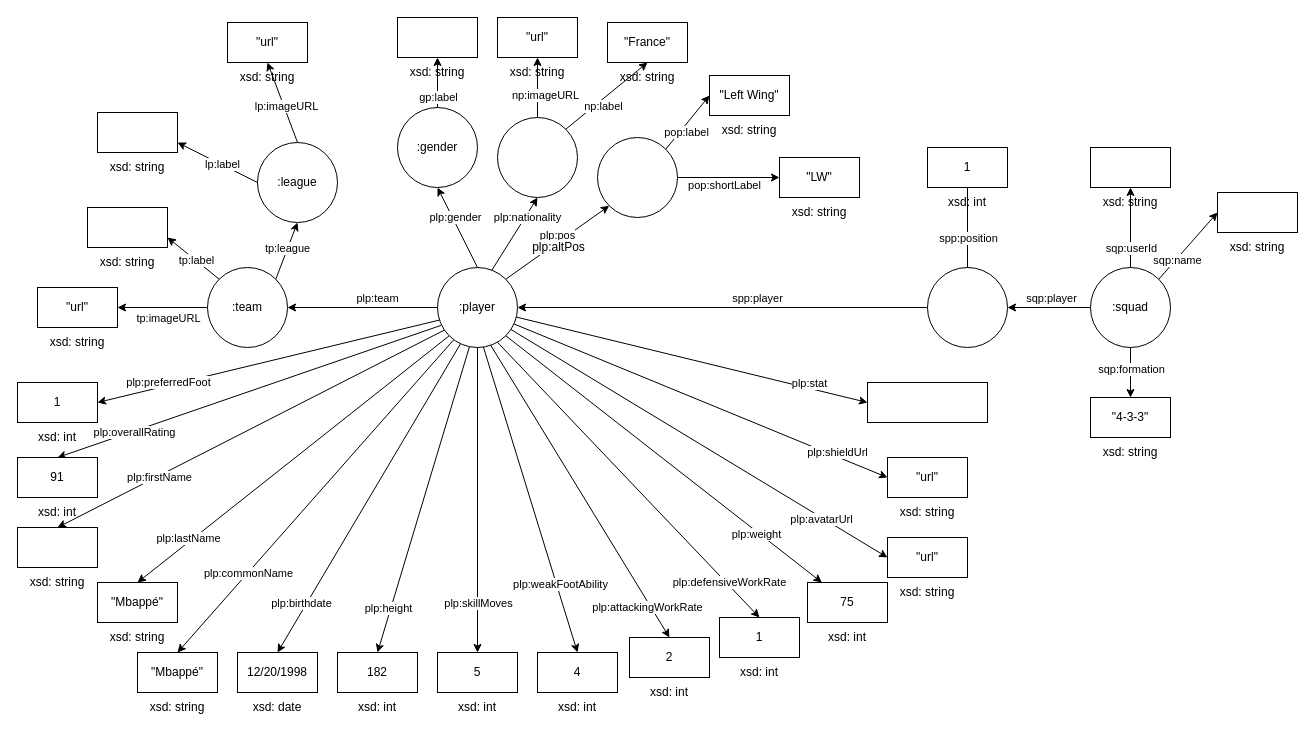
This 1315x740 diagram has some shape labels left out. The shapes that lost their labels are listed below. From the top down, each one's box as (x1, y1, x2, y2) in pixels, then its label:
(396, 16, 478, 58): "Men's Football"
(96, 112, 178, 152): "Ligue 1 Uber Eats"
(496, 116, 578, 198): :nationality
(596, 136, 678, 218): :position
(1090, 146, 1170, 188): "aaaa-aaaa-aaa"
(86, 206, 168, 248): "Paris SG"
(1216, 192, 1298, 232): "Premier League"
(926, 266, 1008, 348): :squad_player
(866, 382, 988, 422): "acceleration":97
(16, 526, 98, 568): "Kylian"
